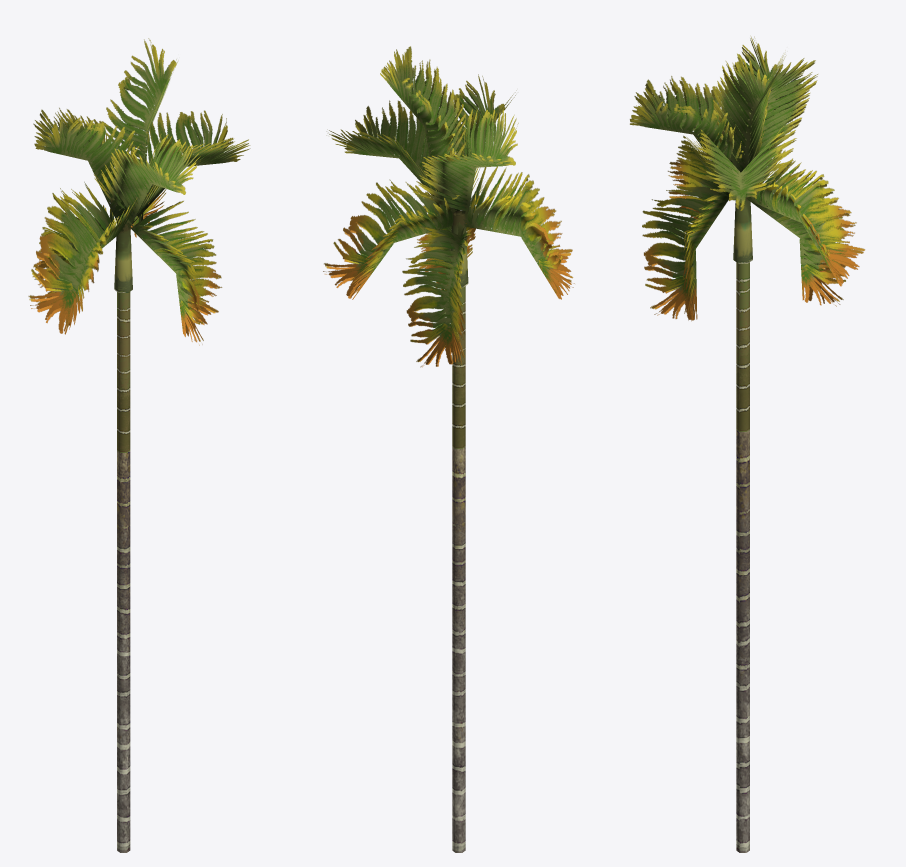
Rendered from palm_areca_5.glb.
The picture shows the model from 3 angles, left to right: view 1: azimuth 30°, elevation 25°; view 2: azimuth 150°, elevation 25°; view 3: azimuth 270°, elevation 25°; orthographic projection. The views are drawn at different scales.
Visible parts, largest first — view 1: palm_areca_5; view 2: palm_areca_5; view 3: palm_areca_5.
Part boxes in pixels (left/top/right/bottom): palm_areca_5: left=28, top=38, right=250, bottom=852; palm_areca_5: left=323, top=46, right=574, bottom=852; palm_areca_5: left=630, top=36, right=864, bottom=852.
Size of the model in its own units: 10.61 by 33.04 by 9.44.
1 material, 1 textured.
